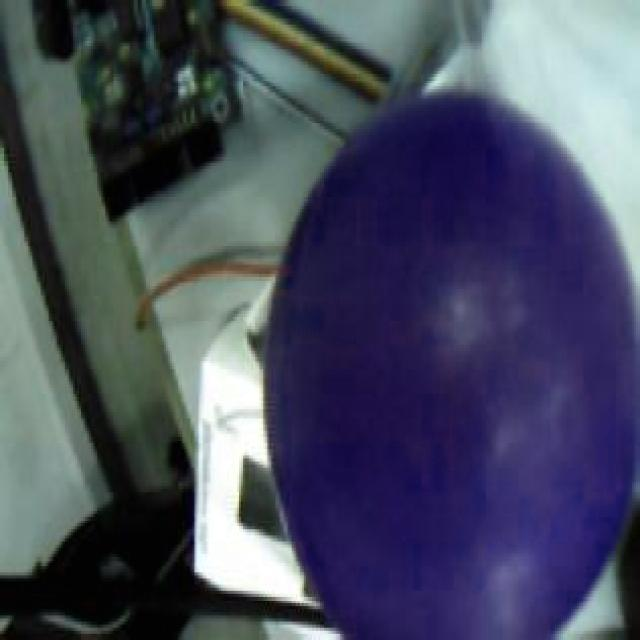BallPurple: (263, 88, 631, 640)
